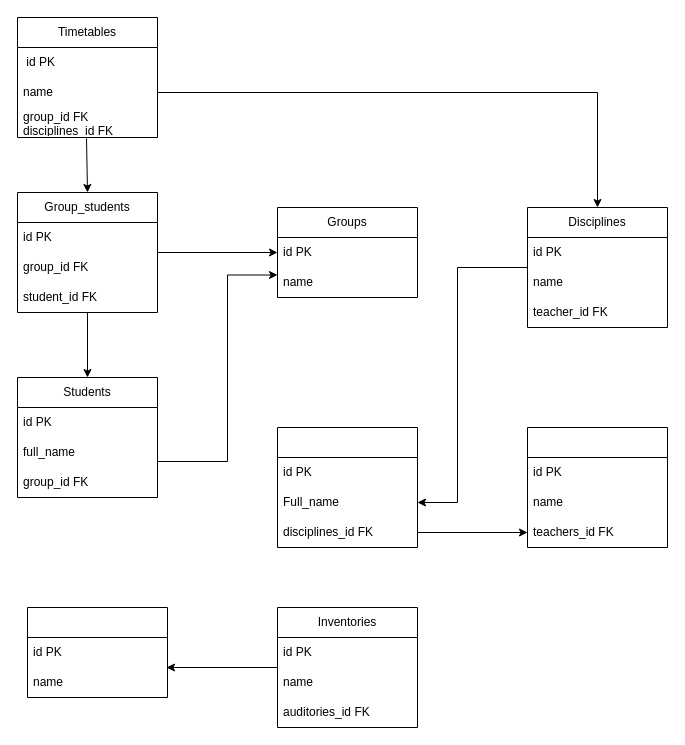
The diagram is 685 pixels wide and 745 high, and some of its shapes have lost their labels. The shapes that lost their labels are listed below. From the top down, each one's box as (x1, y1, x2, y2) in pixels, then its label:
(276, 426, 418, 548): Teachers
(526, 426, 668, 548): Teacher_d isciplines
(26, 606, 168, 698): Auditories
